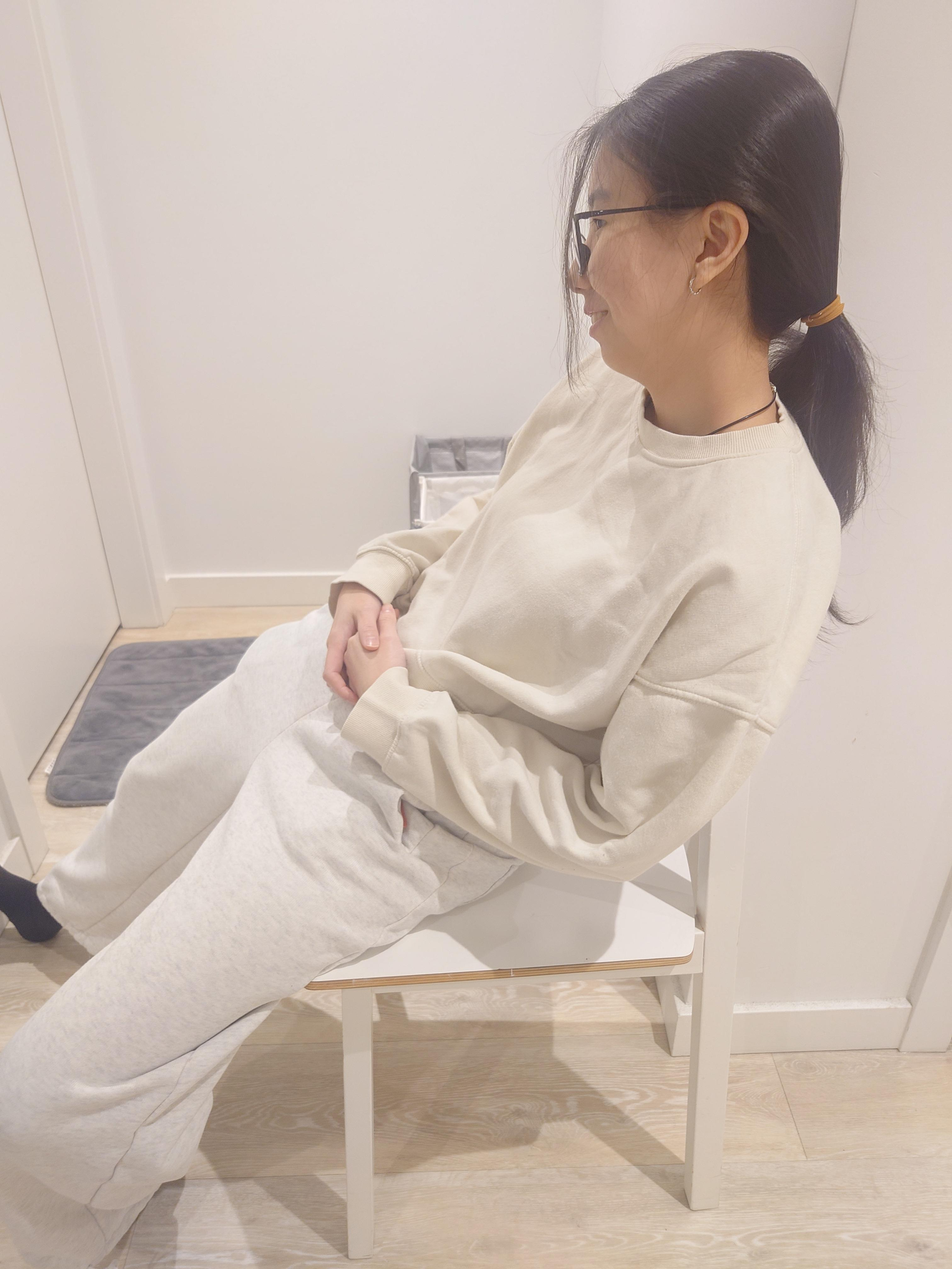BadPosture: (0, 47, 869, 1269)
